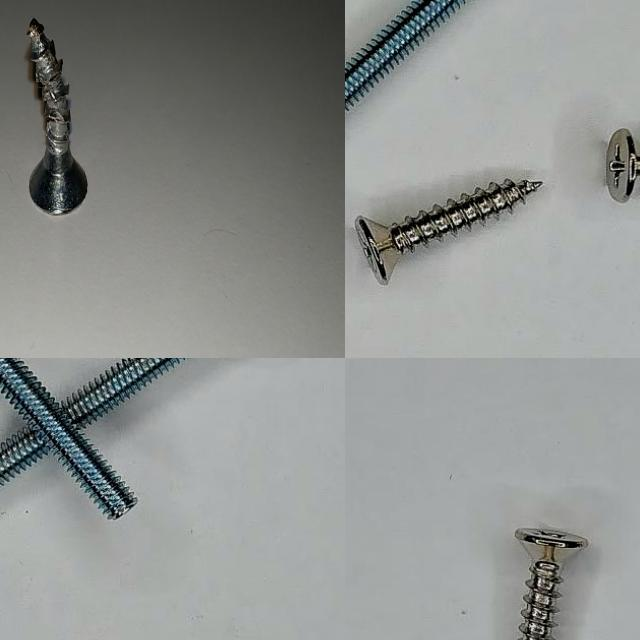Screw: (0, 358, 136, 520), (355, 179, 542, 285), (345, 0, 467, 111), (27, 17, 88, 214), (61, 358, 186, 429), (514, 528, 588, 640), (0, 428, 48, 487), (607, 128, 640, 203)
